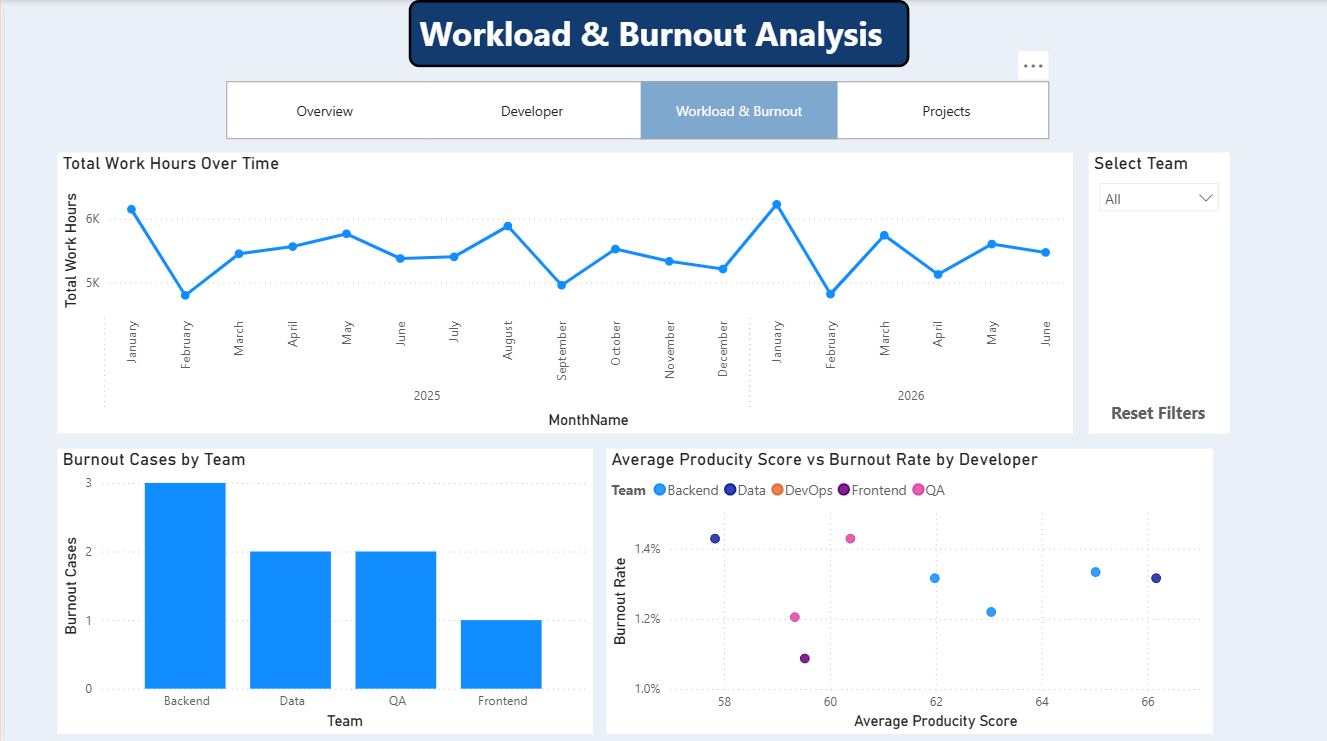

Layout of this report page (visuals, bound fields, positions):
{"tool":"powerbi","page":{"name":"Workload & Burnout","canvas":[1280,720],"ordinal":2},"visuals":[{"type":"textbox","box":[390,0,482.9,65],"z":0},{"type":"lineChart","title":"Total Work Hours Over Time","fields":{"Category":["DimDate.Year","DimDate.MonthName"],"Y":["Calculation.Total Work Hours"]},"box":[50.5,147.2,979.6,271.2],"z":1000},{"type":"clusteredColumnChart","fields":{"Category":["DimDeveloper.Team"],"Y":["Calculation.Burnout Cases"]},"box":[50.5,432.8,516.5,275.6],"z":2000},{"type":"scatterChart","title":"Average Producity Score vs Burnout Rate by Developer","fields":{"Category":["DimDeveloper.DeveloperName"],"Series":["DimDeveloper.Team"],"X":["Calculation.Average Producity Score"],"Y":["Calculation.Burnout Rate"]},"box":[580,432.8,585.8,275.6],"z":3000},{"type":"slicer","title":"Select Team","fields":{"Values":["DimDeveloper.Team"]},"box":[1046,147.2,135.6,271.2],"z":4000},{"type":"actionButton","box":[1060.4,378,105,39.8],"z":6000},{"type":"pageNavigator","box":[213.5,77.9,793.5,56.3],"z":6001}]}

Visuals, with their boxes in screenshot pixels (x1, y1, x2, y2), scaled from the page's 1280x720 canvas onto the 1327x741 screenshot:
textbox: 404,0,905,67
"Total Work Hours Over Time" lineChart: 52,151,1068,431
clusteredColumnChart - DimDeveloper.Team x Calculation.Burnout Cases: 52,445,588,729
"Average Producity Score vs Burnout Rate by Developer" scatterChart: 601,445,1209,729
"Select Team" slicer: 1084,151,1225,431
actionButton: 1099,389,1208,430
pageNavigator: 221,80,1044,138
